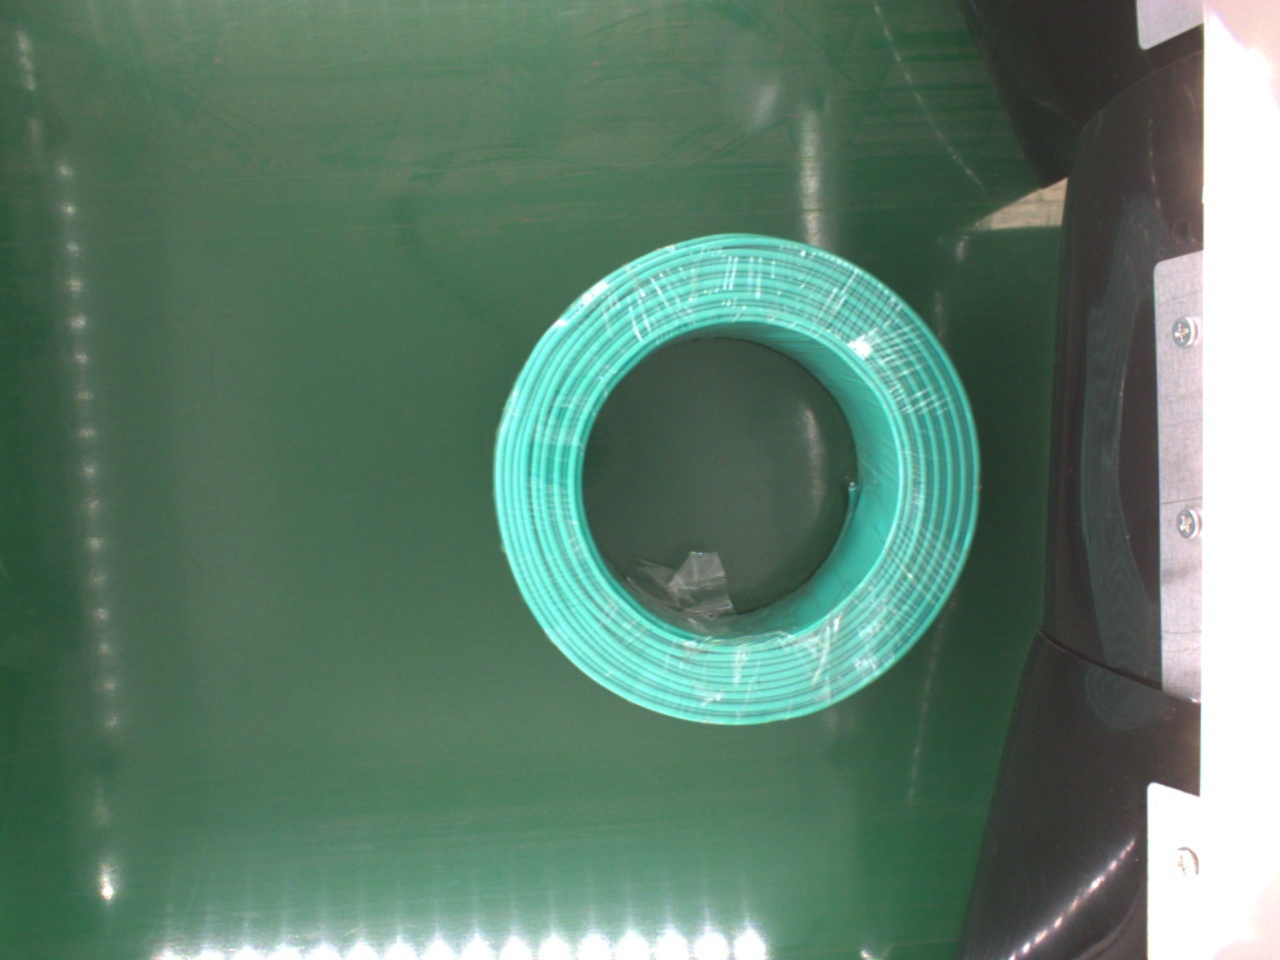green: (492, 232, 979, 733)
